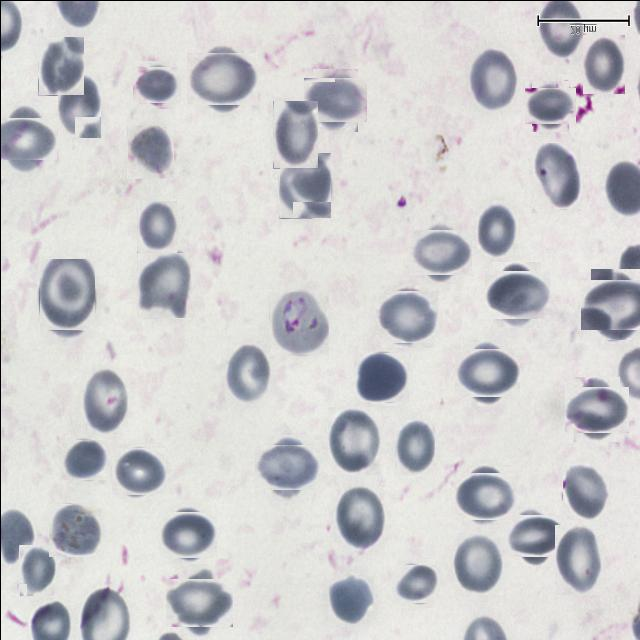red blood cell: (38, 258, 94, 330), (190, 47, 252, 109), (327, 406, 380, 474), (136, 252, 190, 318), (278, 152, 330, 218), (169, 573, 227, 631), (554, 524, 602, 594), (584, 274, 640, 334), (334, 483, 384, 550), (80, 366, 127, 435), (468, 46, 517, 112), (458, 344, 514, 401), (378, 287, 434, 344), (488, 266, 544, 322), (259, 438, 315, 494), (533, 142, 580, 208), (452, 532, 502, 594), (568, 381, 624, 436), (272, 100, 317, 168), (412, 224, 467, 278), (308, 72, 362, 126), (458, 468, 512, 522), (48, 502, 102, 556), (354, 350, 408, 403), (226, 342, 272, 404), (56, 74, 100, 138), (0, 111, 49, 167), (37, 36, 83, 95), (161, 508, 213, 560), (562, 461, 608, 519), (112, 445, 163, 496), (126, 124, 173, 178), (508, 510, 558, 560), (582, 34, 624, 93), (326, 574, 373, 624), (476, 200, 516, 256), (394, 419, 434, 475), (61, 436, 108, 482), (136, 200, 176, 252), (528, 84, 572, 128), (393, 560, 437, 604), (18, 544, 55, 596), (135, 62, 178, 106)
ring: (268, 290, 328, 354)
